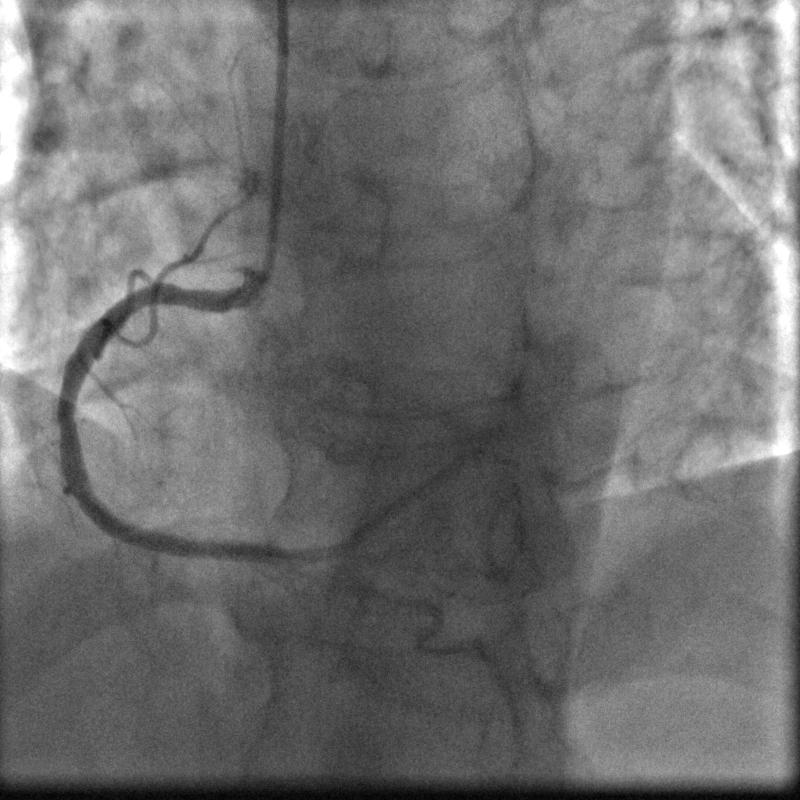Stenosis: (51, 388, 83, 444)
